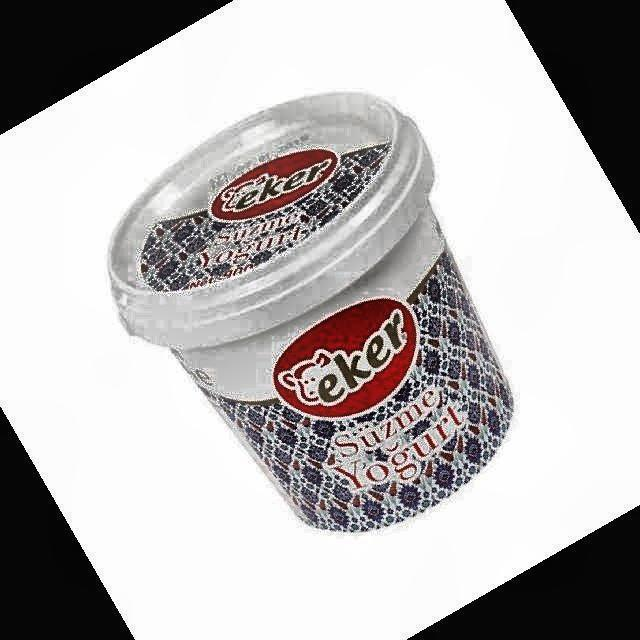plastic: (109, 92, 512, 531)
